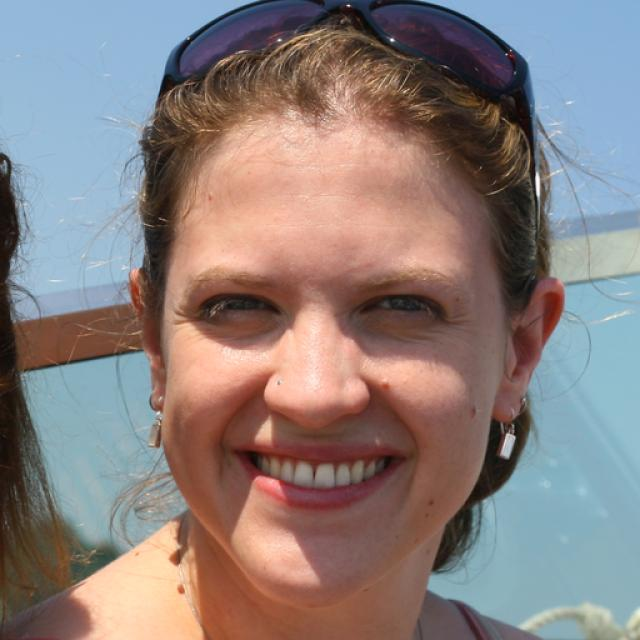Acne: (374, 371, 395, 398), (468, 404, 483, 419)
